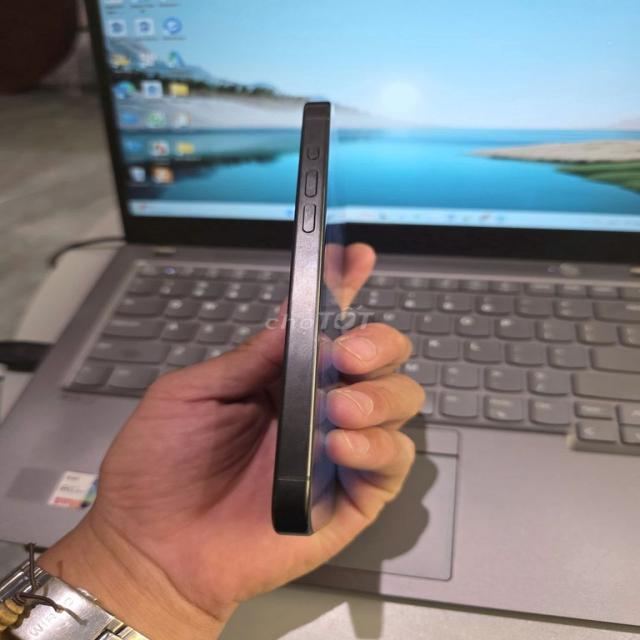scratch: (299, 204, 317, 336)
